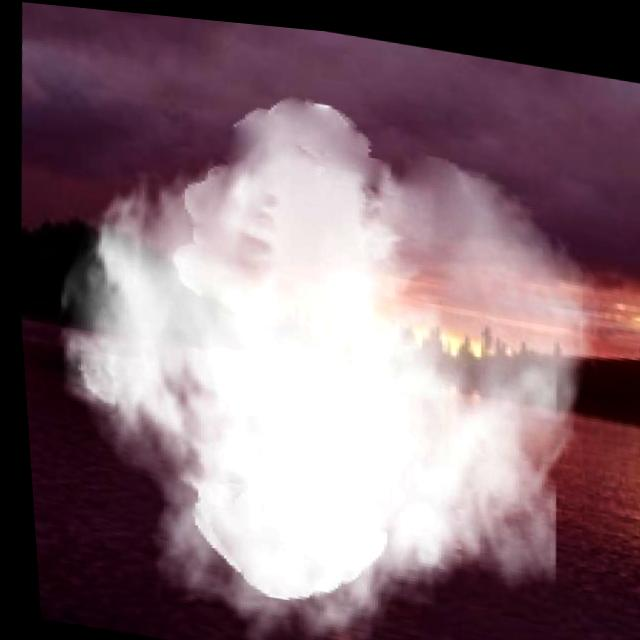Smoke: (42, 56, 604, 640)
